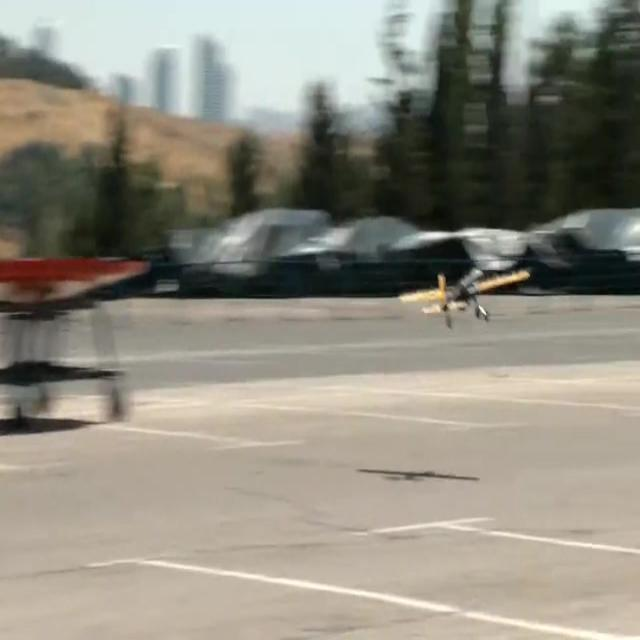iha: (399, 298, 529, 300)
